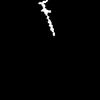double_crochet: (39, 0, 54, 35)
